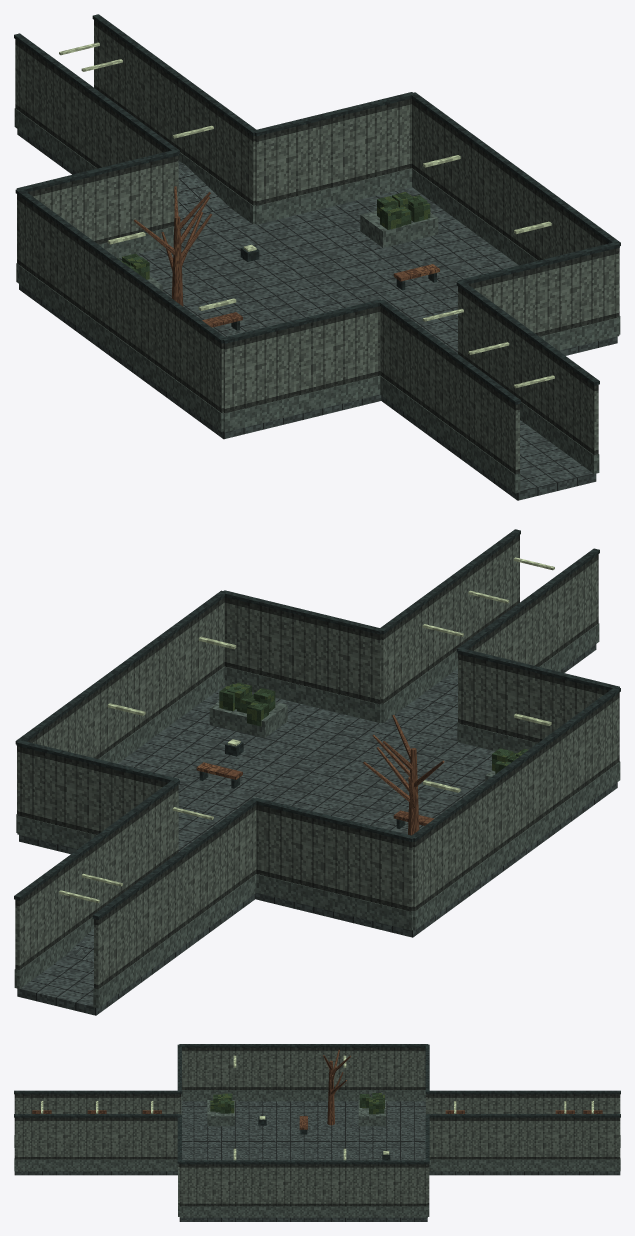
File: FERI_Route_B.fbx
The picture shows the model from 3 angles, top to bottom: view 1: azimuth 30°, elevation 25°; view 2: azimuth 150°, elevation 25°; view 3: azimuth 270°, elevation 25°; orthographic projection. The views are drawn at different scales.
Visible parts, largest first — view 1: PL_Route_B_Wall, PL_Route_B_Floor, PL_Route_B_Concrete, PL_Route_B_Iron, PL_Route_B_Wood, PL_Route_B_Leaf, PL_Route_B_Tube; view 2: PL_Route_B_Wall, PL_Route_B_Floor, PL_Route_B_Concrete, PL_Route_B_Iron, PL_Route_B_Wood, PL_Route_B_Leaf, PL_Route_B_Tube; view 3: PL_Route_B_Wall, PL_Route_B_Floor, PL_Route_B_Concrete, PL_Route_B_Iron, PL_Route_B_Wood, PL_Route_B_Leaf, PL_Route_B_Tube.
Boxes of the visible parts, bbox=[...] form: PL_Route_B_Wall: bbox=[15, 20, 619, 474]; PL_Route_B_Floor: bbox=[17, 129, 617, 500]; PL_Route_B_Concrete: bbox=[14, 108, 620, 493]; PL_Route_B_Iron: bbox=[14, 14, 620, 404]; PL_Route_B_Wood: bbox=[133, 186, 439, 327]; PL_Route_B_Leaf: bbox=[117, 192, 430, 279]; PL_Route_B_Tube: bbox=[59, 42, 554, 388]; PL_Route_B_Wall: bbox=[15, 535, 619, 989]; PL_Route_B_Floor: bbox=[17, 644, 617, 1015]; PL_Route_B_Concrete: bbox=[14, 623, 620, 1008]; PL_Route_B_Iron: bbox=[14, 529, 620, 919]; PL_Route_B_Wood: bbox=[196, 715, 444, 835]; PL_Route_B_Leaf: bbox=[219, 682, 528, 773]; PL_Route_B_Tube: bbox=[59, 557, 554, 903]; PL_Route_B_Wall: bbox=[14, 1047, 620, 1206]; PL_Route_B_Floor: bbox=[14, 1101, 620, 1221]; PL_Route_B_Concrete: bbox=[14, 1090, 620, 1217]; PL_Route_B_Iron: bbox=[14, 1044, 620, 1164]; PL_Route_B_Wood: bbox=[32, 1050, 602, 1129]; PL_Route_B_Leaf: bbox=[210, 1093, 384, 1114]; PL_Route_B_Tube: bbox=[41, 1055, 593, 1160].
Bounding box in the file's own units: 20.3 × 6.54 × 44.08.
